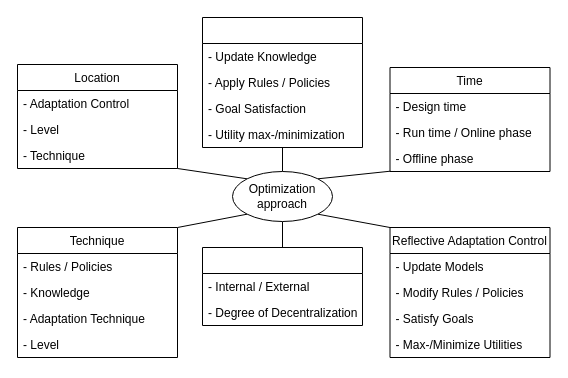
Some shapes in this 568 by 378 pixel diagram are drawn without their labels. The box of each missing label's shape, as (x1, y1, x2, y2) in pixels:
Approach: (202, 246, 362, 326)
Purpose: (202, 16, 362, 148)
